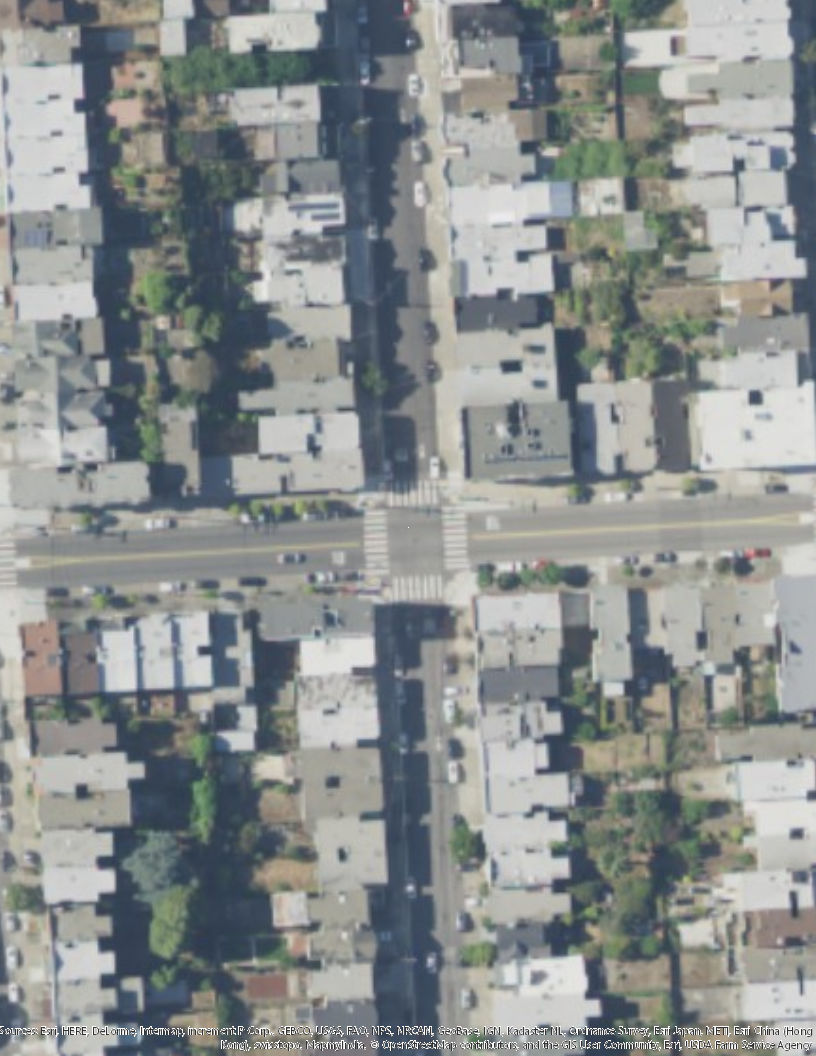zebracross: (361, 509, 391, 584), (443, 510, 468, 576), (392, 477, 443, 509), (392, 579, 447, 601), (1, 531, 17, 580)
